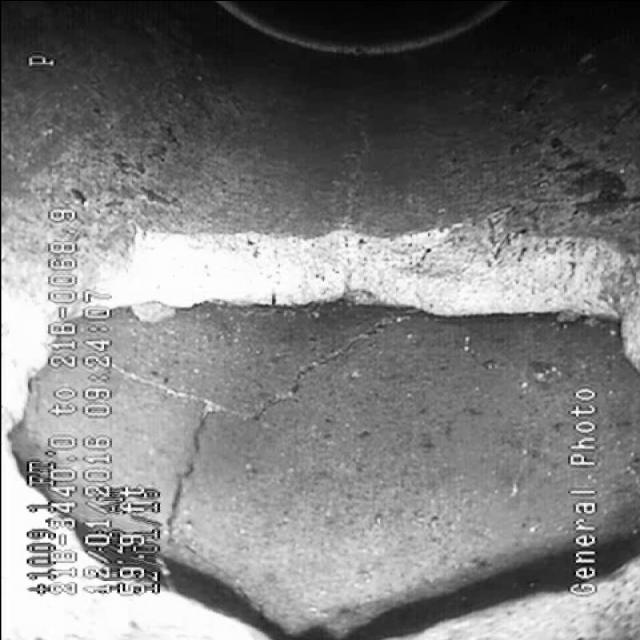Crack: (148, 322, 398, 439)
